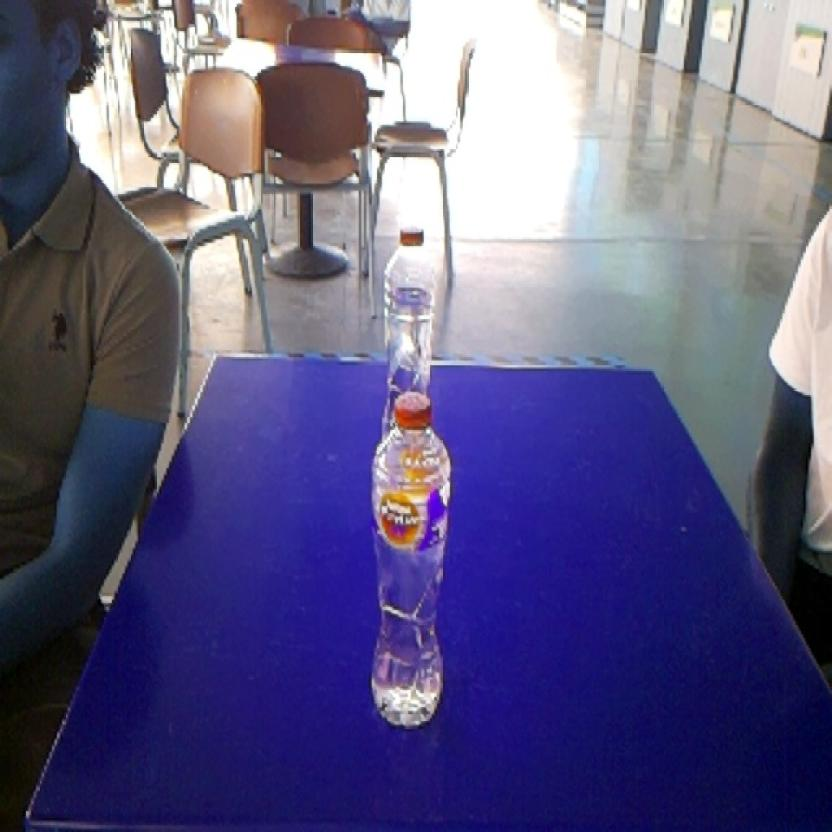good: (359, 367, 471, 753)
no_label: (375, 217, 446, 386)
